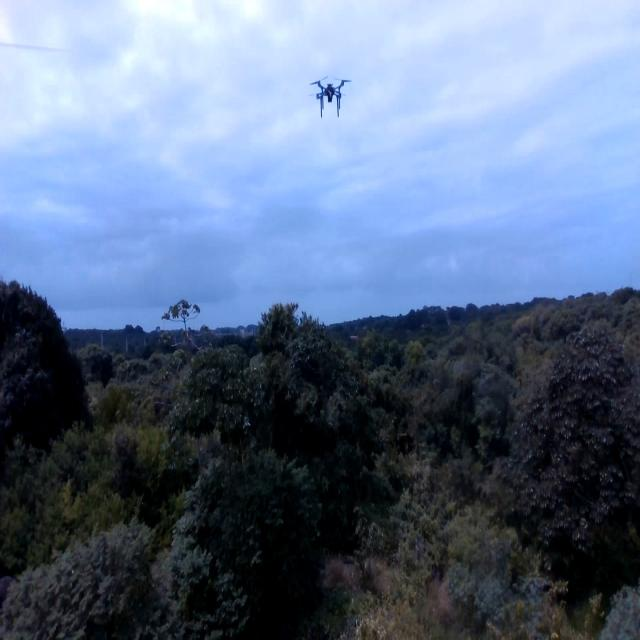-uav-: (304, 70, 355, 130)
